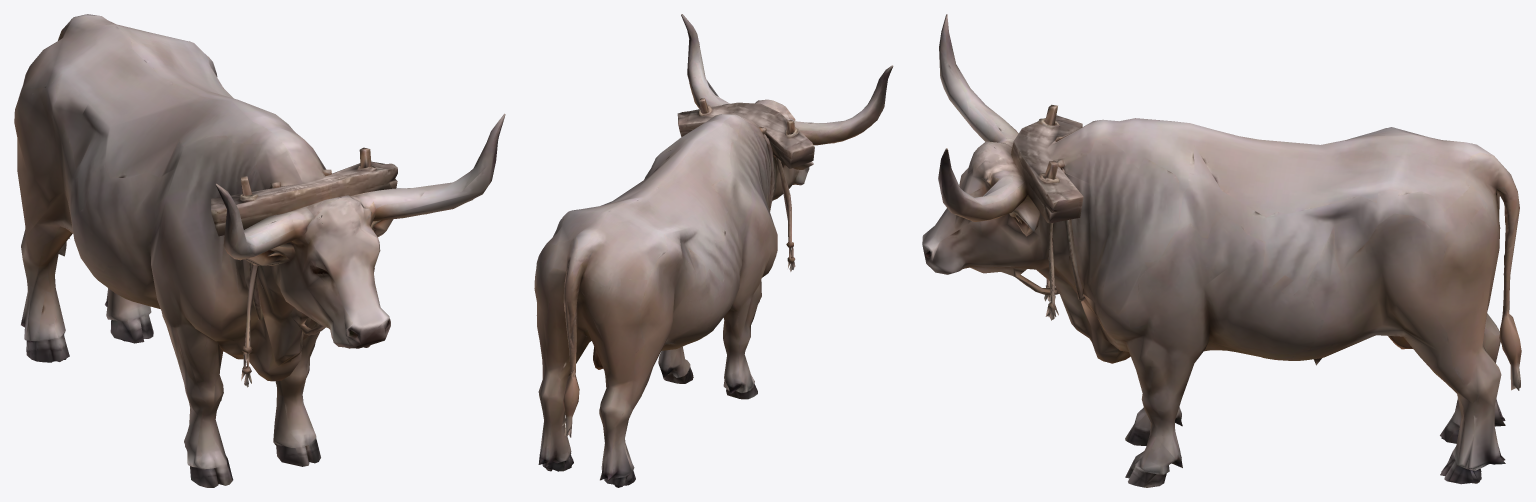
File: animal_ox.glb
The picture shows the model from 3 angles, left to right: view 1: azimuth 30°, elevation 25°; view 2: azimuth 150°, elevation 25°; view 3: azimuth 270°, elevation 25°; orthographic projection. The views are drawn at different scales.
Visible parts, largest first — view 1: world; view 2: world; view 3: world.
Part boxes in pixels (<box>): world: <box>14,14,505,487</box>; world: <box>534,14,893,487</box>; world: <box>922,14,1521,487</box>.
Bounding box in the file's own units: 1.3 × 1.7 × 2.43.
Materials: 1 (1 with a texture image).
